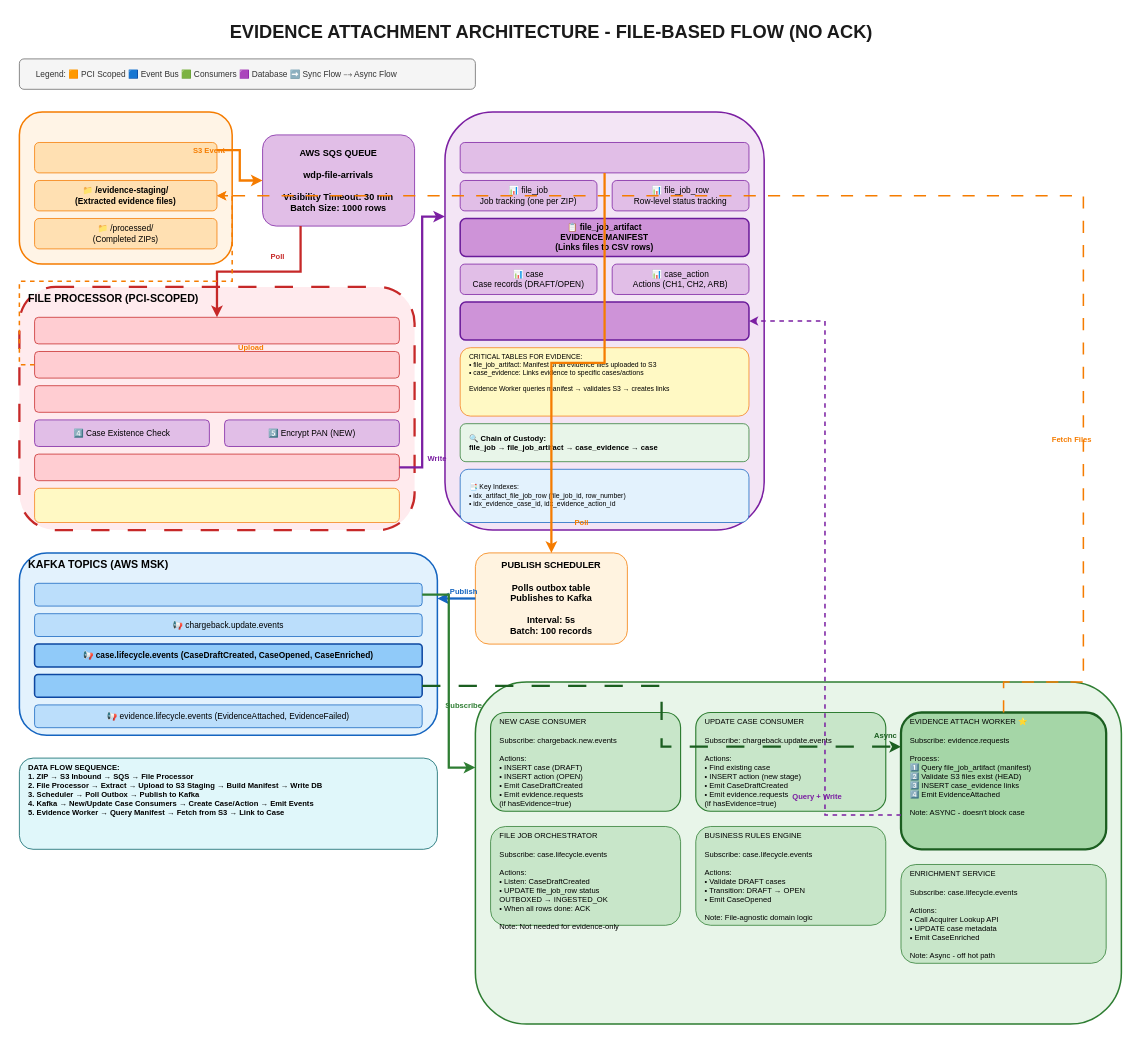
This 1135x1037 diagram has some shape labels left out. The box of each missing label's shape, as (x1, y1, x2, y2) in pixels:
1️⃣ Stream ZIP + Extract Images: (34, 317, 399, 344)
2️⃣ Upload Evidence to S3 /evidence-staging/: (34, 351, 399, 378)
3️⃣ Parse CSV + Build file_job_artifact Manifest: (34, 385, 399, 412)
6️⃣ Insert Outbox + file_job_row (Single Transaction): (34, 453, 399, 481)
AURORA DATABASE (POSTGRES): (444, 111, 765, 530)
AWS S3 BUCKETS: (18, 111, 233, 264)
DOMAIN CONSUMERS & WORKERS: (474, 681, 1122, 1024)
hasEvidence: true evidenceCount: N fileJobId: xxx rowNumber: N: (34, 488, 399, 522)
📁 /inbound/ (ZIP files arrive here): (34, 142, 217, 173)
📊 outbox Event publication queue: (459, 142, 749, 173)
📢 chargeback.new.events: (34, 583, 422, 606)
📢 evidence.requests (EvidenceAttachRequested): (33, 673, 423, 698)
🔗 case_evidence LINK TABLE (case → evidence files): (459, 301, 749, 340)
